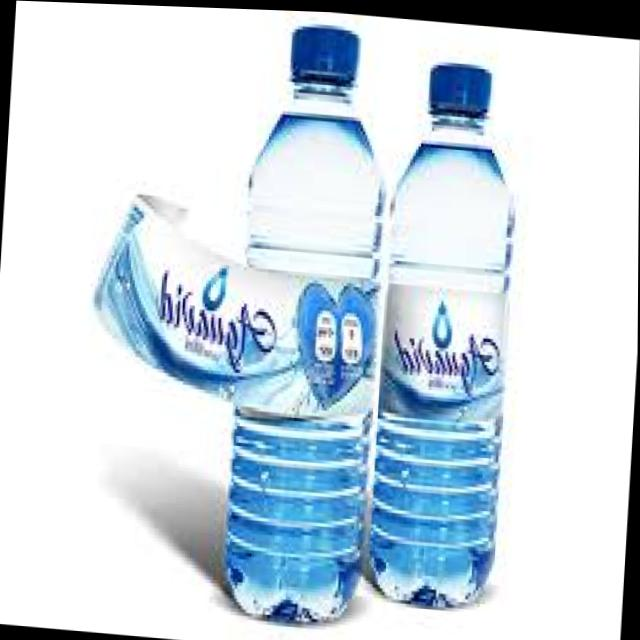Botella: (361, 52, 534, 609)
